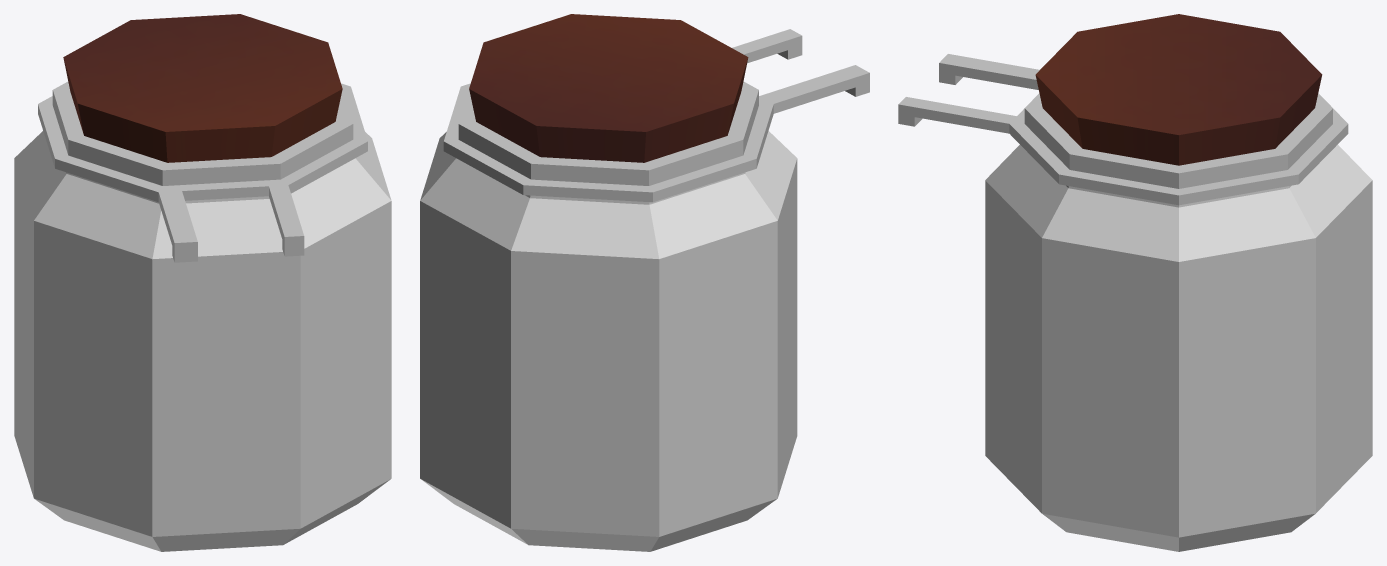
Rendered from Food_GlassJar.fbx.
The picture shows the model from 3 angles, left to right: view 1: azimuth 30°, elevation 25°; view 2: azimuth 150°, elevation 25°; view 3: azimuth 270°, elevation 25°; orthographic projection.
Parts seen in each view (by area): view 1: Cylinder.002; view 2: Cylinder.002; view 3: Cylinder.002.
Boxes of the visible parts, x1=… form: Cylinder.002: x1=14, y1=14, x2=391, y2=551; Cylinder.002: x1=420, y1=14, x2=869, y2=551; Cylinder.002: x1=898, y1=14, x2=1372, y2=551.
Size of the model in its own units: 11.76 by 13.74 by 14.39.
